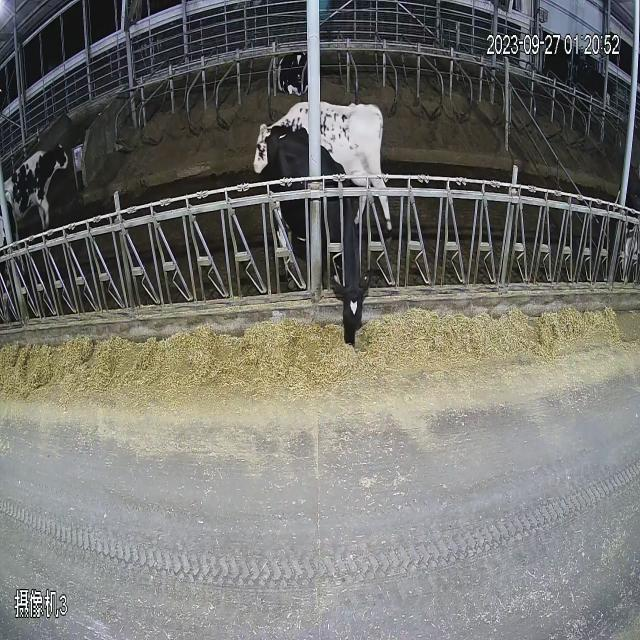feeding: (272, 132, 369, 389)
lying down: (268, 30, 318, 106)
standing: (236, 72, 400, 203), (1, 93, 76, 312)
